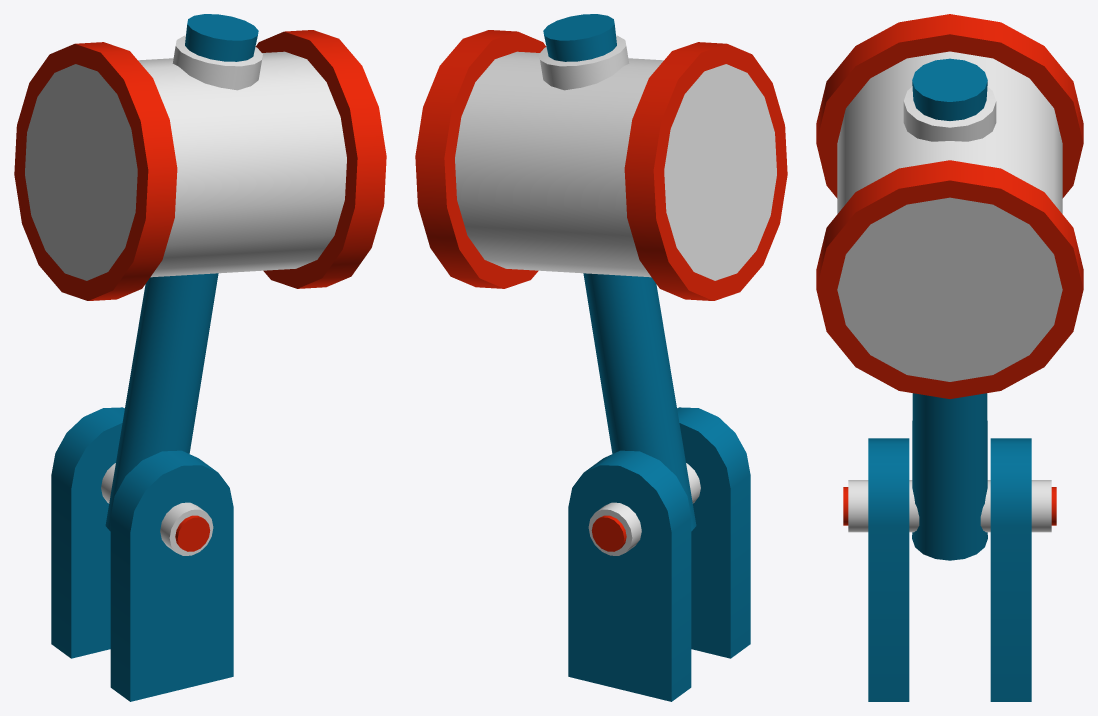
Rendered from Obs_16.fbx.
3 views of the same model, side by side, from view 1: azimuth 30°, elevation 25°; view 2: azimuth 150°, elevation 25°; view 3: azimuth 270°, elevation 25° (orthographic). The views are drawn at different scales.
Visible parts, largest first — view 1: Obs_16_Stick, Obs_16_Base; view 2: Obs_16_Stick, Obs_16_Base; view 3: Obs_16_Stick, Obs_16_Base.
Part boxes in pixels (left/top/right/bottom): Obs_16_Stick: left=14, top=14, right=386, bottom=531; Obs_16_Base: left=51, top=407, right=233, bottom=701; Obs_16_Stick: left=415, top=14, right=787, bottom=531; Obs_16_Base: left=568, top=407, right=750, bottom=701; Obs_16_Stick: left=816, top=14, right=1083, bottom=560; Obs_16_Base: left=843, top=438, right=1056, bottom=701.
Bounding box in the file's own units: 1.61 × 3.44 × 1.3.
